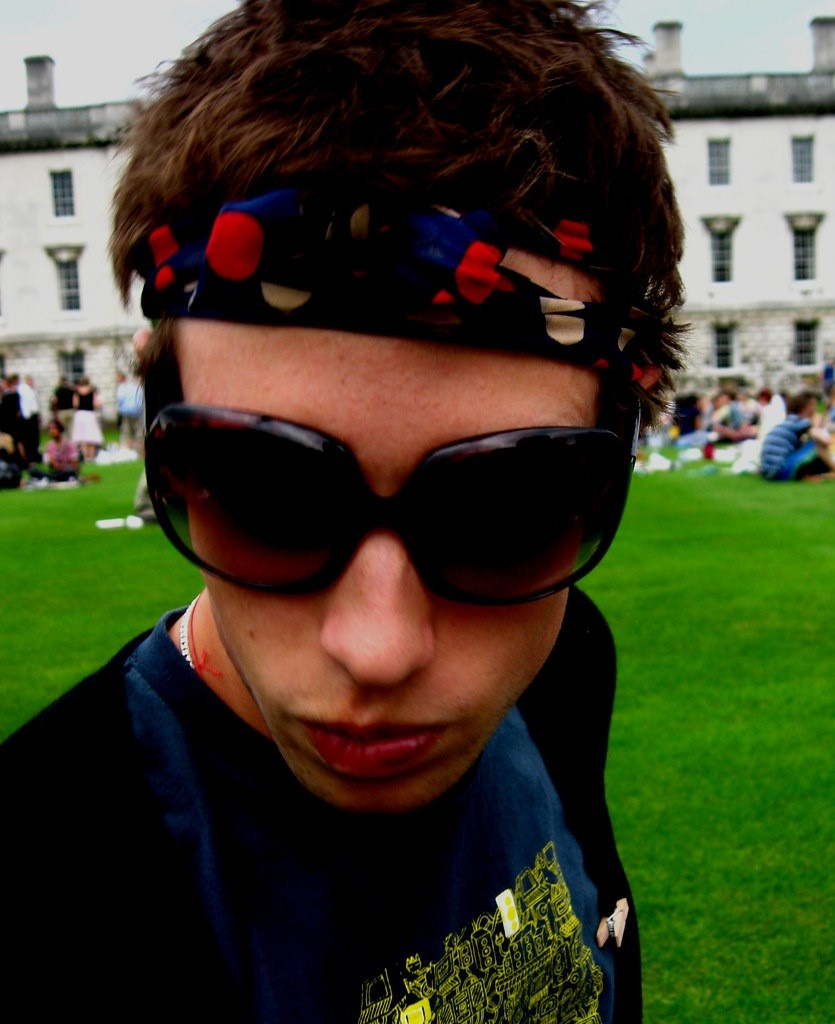face_no_mask: (125, 116, 629, 822)
